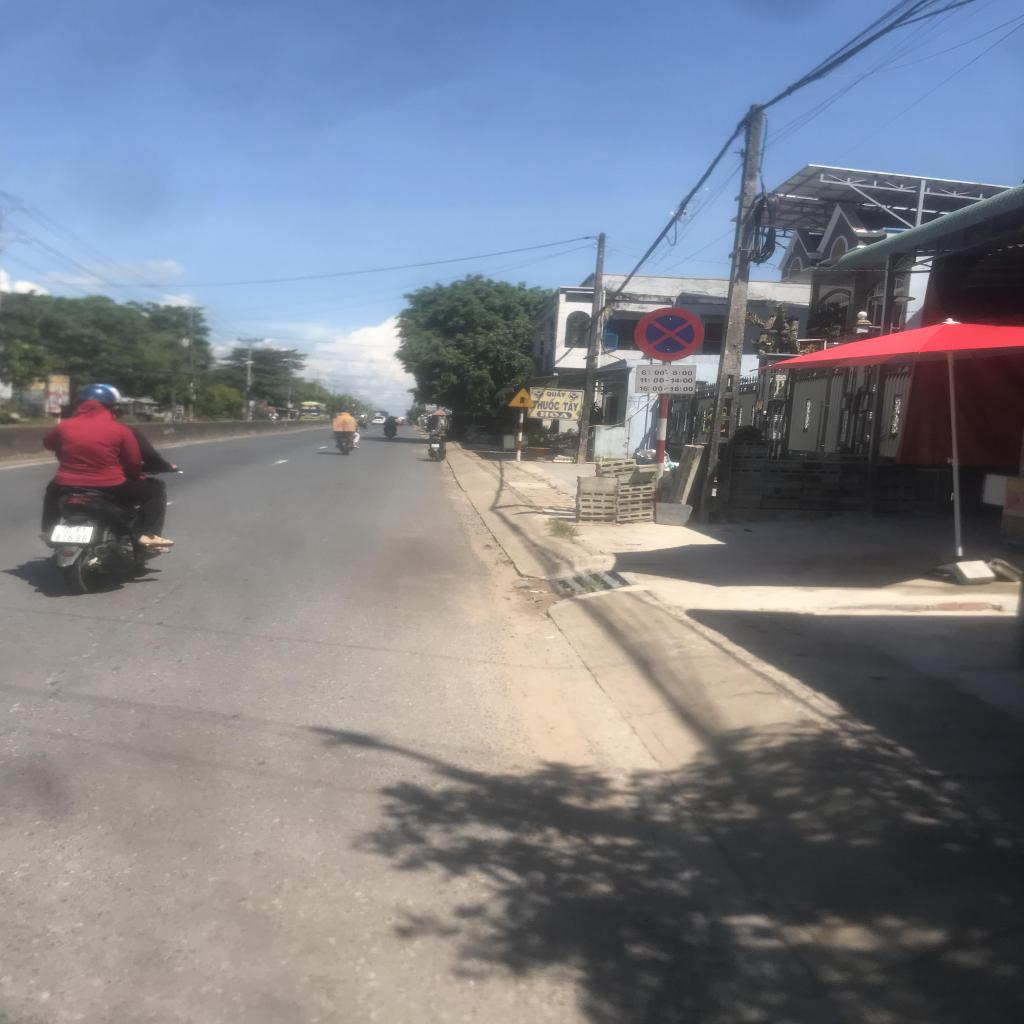cam_dung_xe_va_do_xe: (634, 307, 704, 361)
giao_nhau_voi_duong_khong_uu_tien: (508, 388, 535, 407)
khac: (635, 365, 697, 394)
